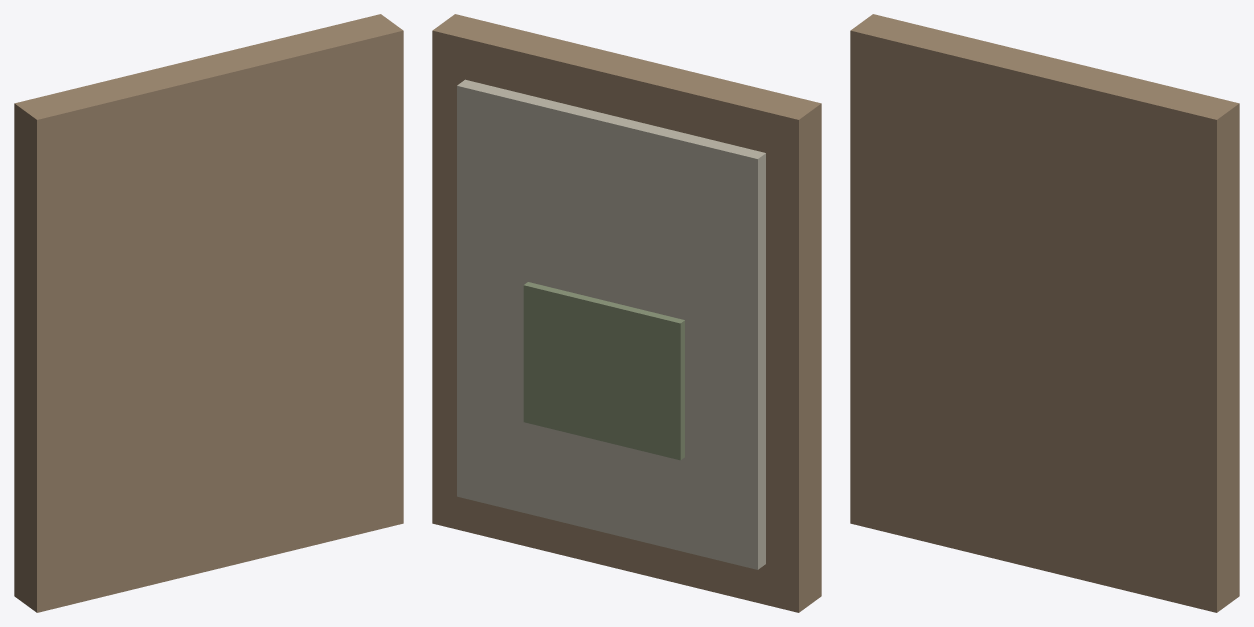
The model's file is picture_frame.glb.
3 renders of one model, left to right at view 1: azimuth 30°, elevation 25°; view 2: azimuth 150°, elevation 25°; view 3: azimuth 330°, elevation 25°, orthographic.
Parts seen in each view (by area): view 1: body; view 2: body; view 3: body.
Boxes of the visible parts, x1,y1,x2,y2 form: body: (14, 14, 403, 612); body: (432, 14, 821, 612); body: (850, 14, 1239, 612).
Bounding box in the file's own units: 0.28 × 0.36 × 0.048.
